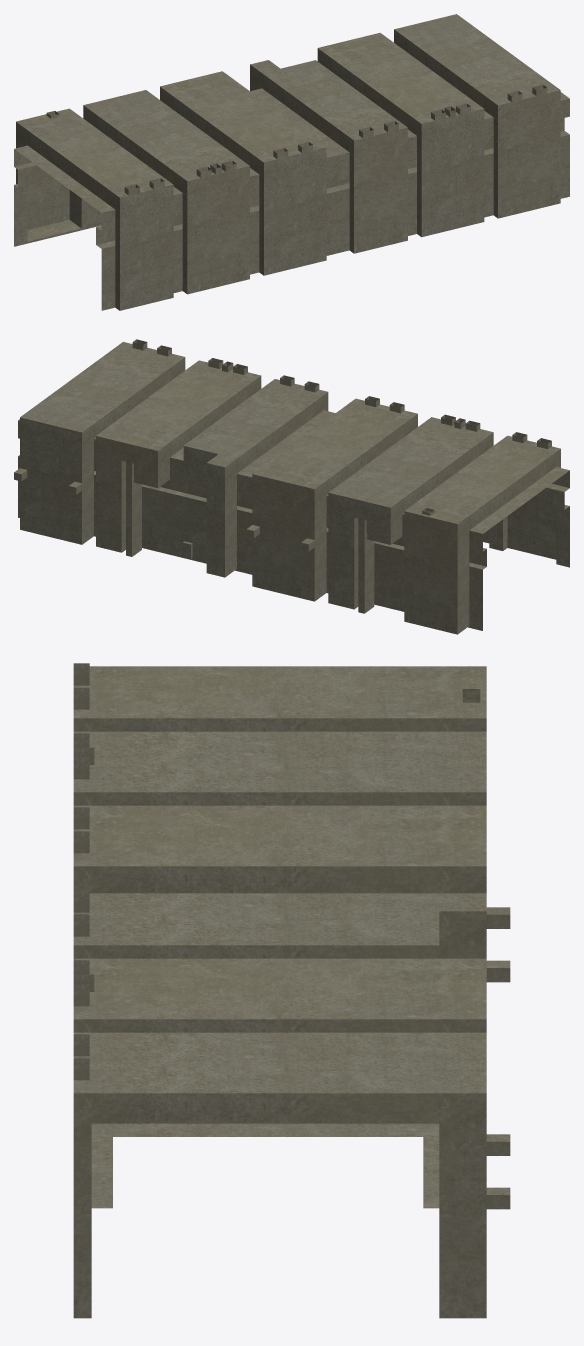
Rendered from Paredes.fbx.
The picture shows the model from 3 angles, top to bottom: view 1: azimuth 30°, elevation 25°; view 2: azimuth 150°, elevation 25°; view 3: azimuth 270°, elevation 25°; orthographic projection. The views are drawn at different scales.
Visible parts, largest first — view 1: Paredes; view 2: Paredes; view 3: Paredes.
Boxes of the visible parts, left/top/right/bottom form: Paredes: left=14, top=14, right=569, bottom=310; Paredes: left=14, top=339, right=569, bottom=634; Paredes: left=73, top=663, right=510, bottom=1318.
Bounding box in the file's own units: 6800 × 1650 × 2765.
